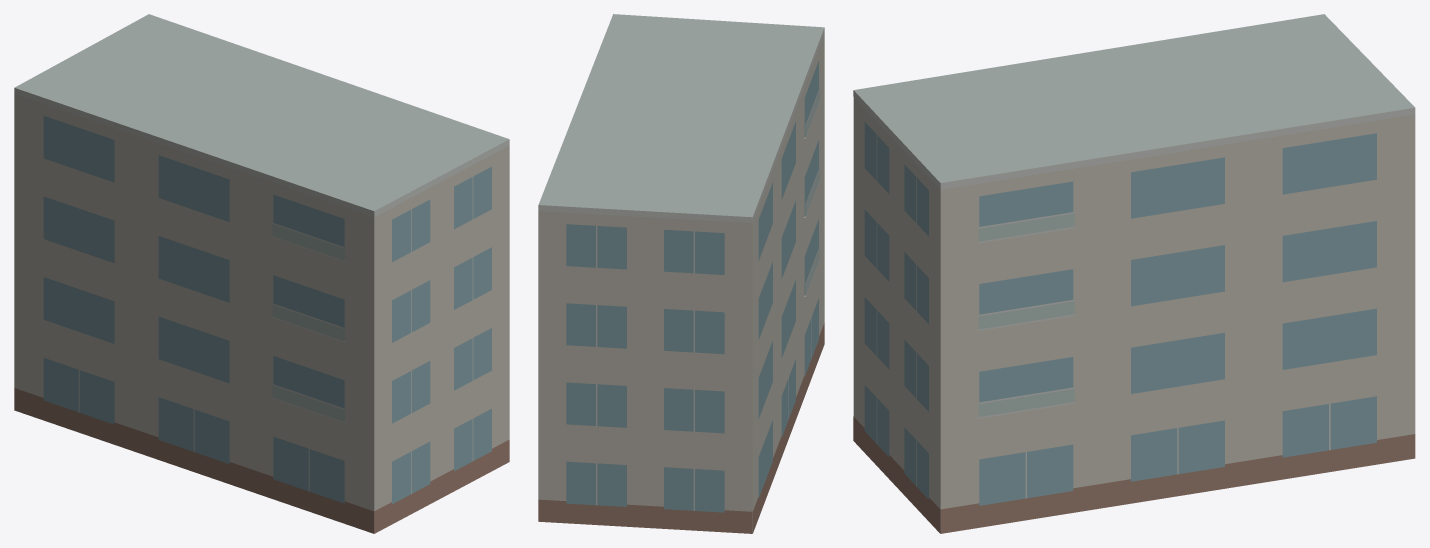
The model's file is survey-upis-32964425.glb.
The picture shows the model from 3 angles, left to right: view 1: azimuth 30°, elevation 25°; view 2: azimuth 150°, elevation 25°; view 3: azimuth 270°, elevation 25°; orthographic projection. The views are drawn at different scales.
Visible parts, largest first — view 1: survey-upis-32964425.tmp; view 2: survey-upis-32964425.tmp; view 3: survey-upis-32964425.tmp.
Boxes of the visible parts, x1,y1,x2,y2 form: survey-upis-32964425.tmp: (14, 14, 509, 533); survey-upis-32964425.tmp: (538, 14, 824, 533); survey-upis-32964425.tmp: (853, 14, 1415, 533).
Size of the model in its own units: 13.35 by 12.9 by 18.74.
